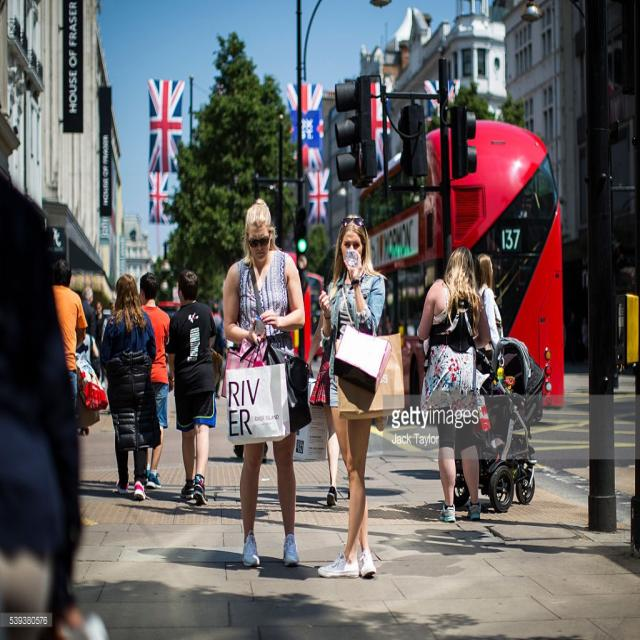body: (218, 194, 314, 571), (0, 182, 77, 638), (315, 214, 391, 583), (416, 243, 494, 528), (98, 268, 163, 503), (166, 266, 225, 508), (304, 260, 342, 506), (139, 270, 171, 490), (50, 255, 89, 412), (472, 252, 505, 352), (74, 329, 100, 437), (210, 304, 226, 399), (94, 298, 108, 385), (80, 286, 99, 340), (100, 297, 118, 343)
